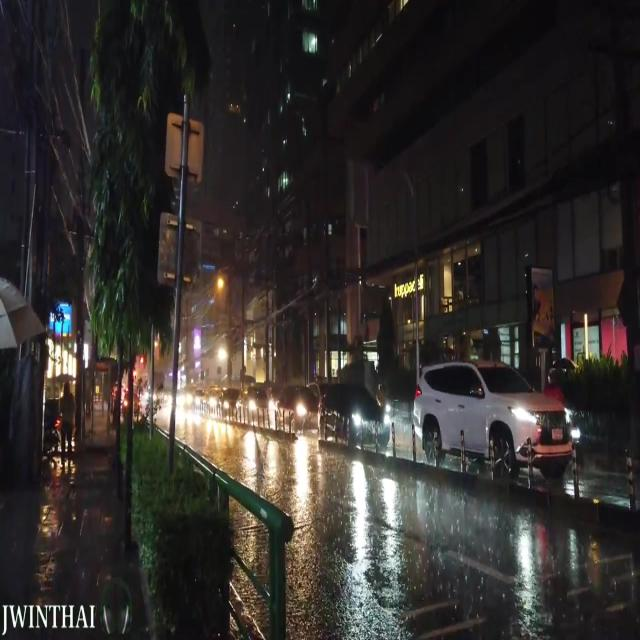Car: (413, 360, 571, 475), (316, 388, 389, 448), (269, 383, 316, 426)
